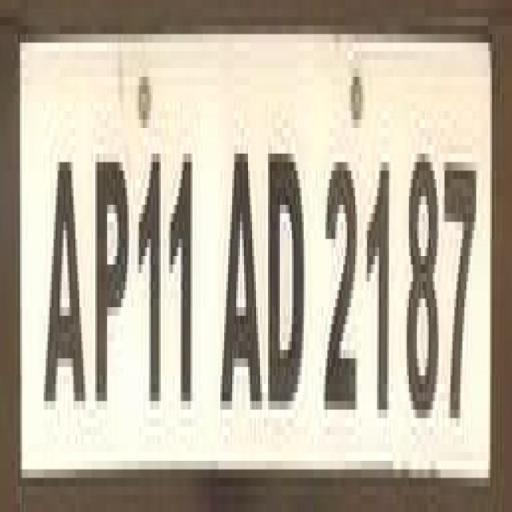number plate: (17, 8, 512, 503)
